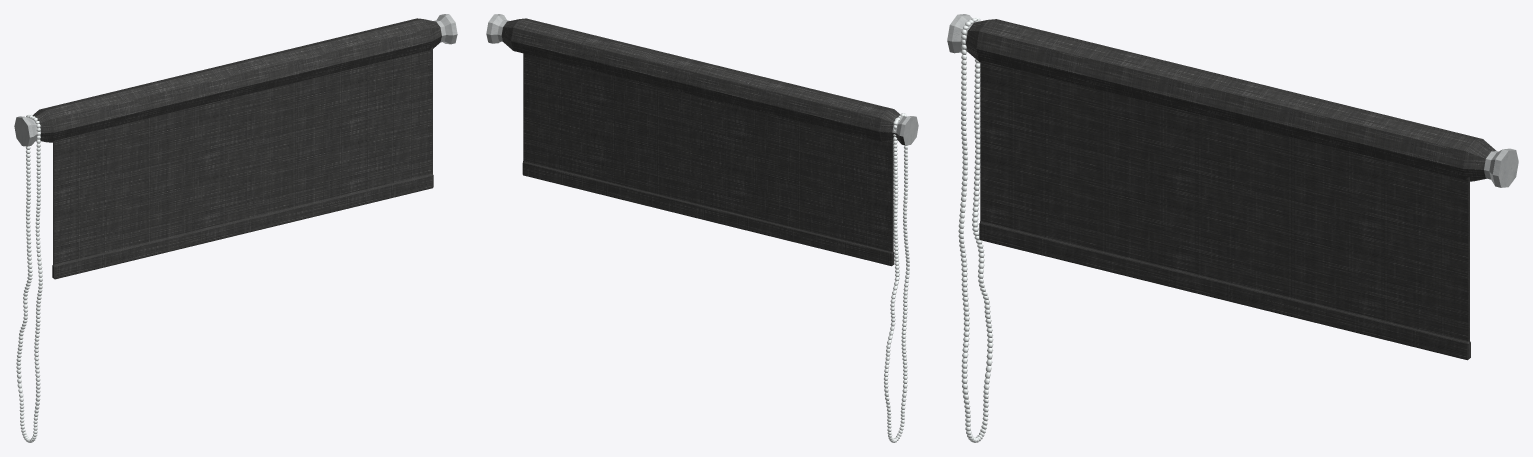
The model's file is blinds.glb.
The picture shows the model from 3 angles, left to right: view 1: azimuth 30°, elevation 25°; view 2: azimuth 150°, elevation 25°; view 3: azimuth 330°, elevation 25°; orthographic projection. The views are drawn at different scales.
Parts seen in each view (by area): view 1: pCube261, pCube262, group12_pCube232; view 2: pCube261, pCube262, group12_pCube232; view 3: pCube261, pCube262, group12_pCube232.
Part boxes in pixels (bbox=[...]): pCube261: bbox=[52, 46, 433, 279]; pCube262: bbox=[14, 14, 457, 146]; group12_pCube232: bbox=[16, 114, 42, 442]; pCube261: bbox=[522, 53, 894, 266]; pCube262: bbox=[486, 14, 918, 145]; group12_pCube232: bbox=[884, 113, 909, 442]; pCube261: bbox=[979, 60, 1470, 360]; pCube262: bbox=[947, 14, 1518, 187]; group12_pCube232: bbox=[958, 17, 993, 442].
Size of the model in its own units: 0.0435 by 0.0324 by 0.00449.
Materials: 3 (2 with a texture image).
